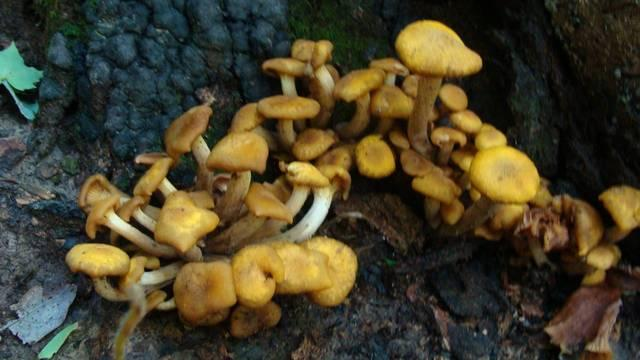edible_mushroom: (61, 104, 361, 325), (393, 18, 483, 157), (267, 39, 396, 124), (461, 132, 545, 242)
